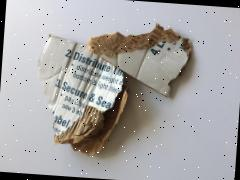cardboard: (10, 0, 197, 178)
